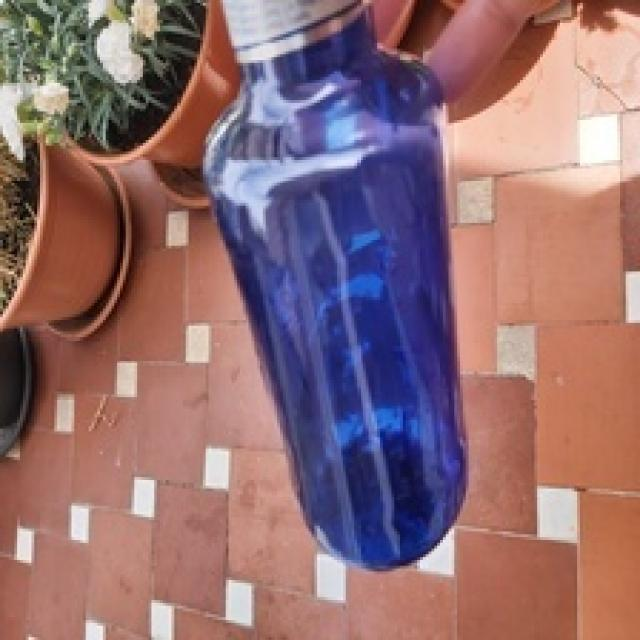Plastic: (204, 0, 467, 572)
